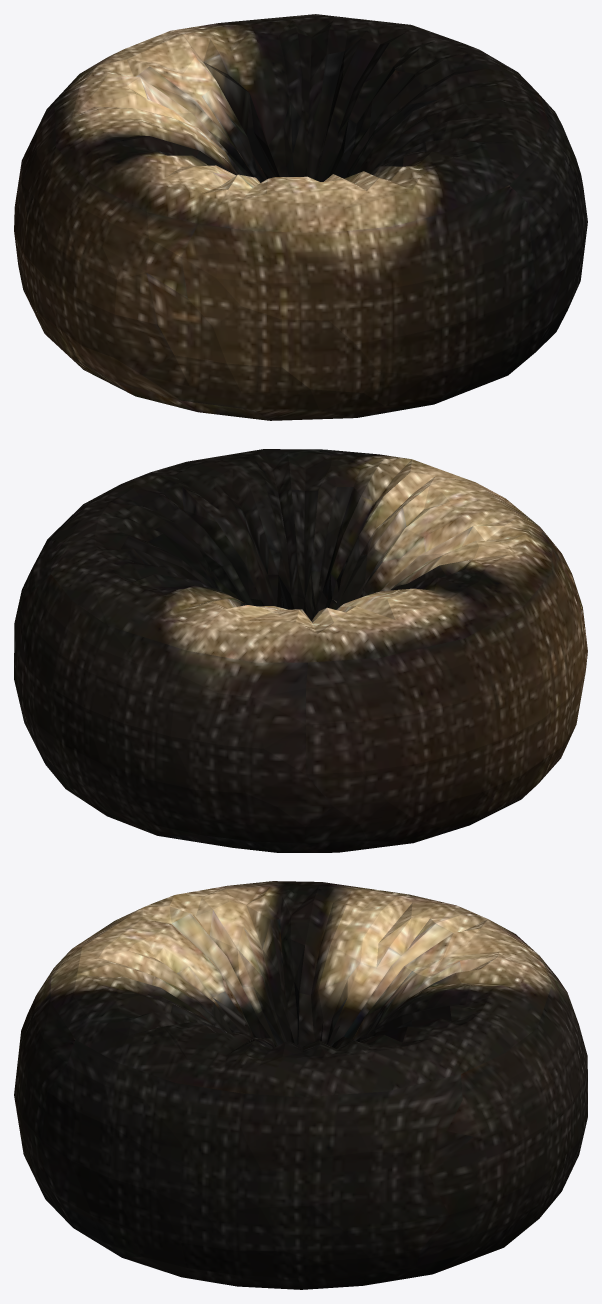
The model's file is beanbag1-transformed.glb.
The picture shows the model from 3 angles, top to bottom: view 1: azimuth 30°, elevation 25°; view 2: azimuth 150°, elevation 25°; view 3: azimuth 270°, elevation 25°; orthographic projection.
Parts seen in each view (by area): view 1: beanbag1; view 2: beanbag1; view 3: beanbag1.
Part boxes in pixels (bbox=[...]): beanbag1: bbox=[14, 14, 587, 420]; beanbag1: bbox=[14, 449, 587, 852]; beanbag1: bbox=[14, 881, 587, 1289].
Bounding box in the file's own units: 1.22 × 0.513 × 1.21.
Materials: 1 (1 with a texture image).
